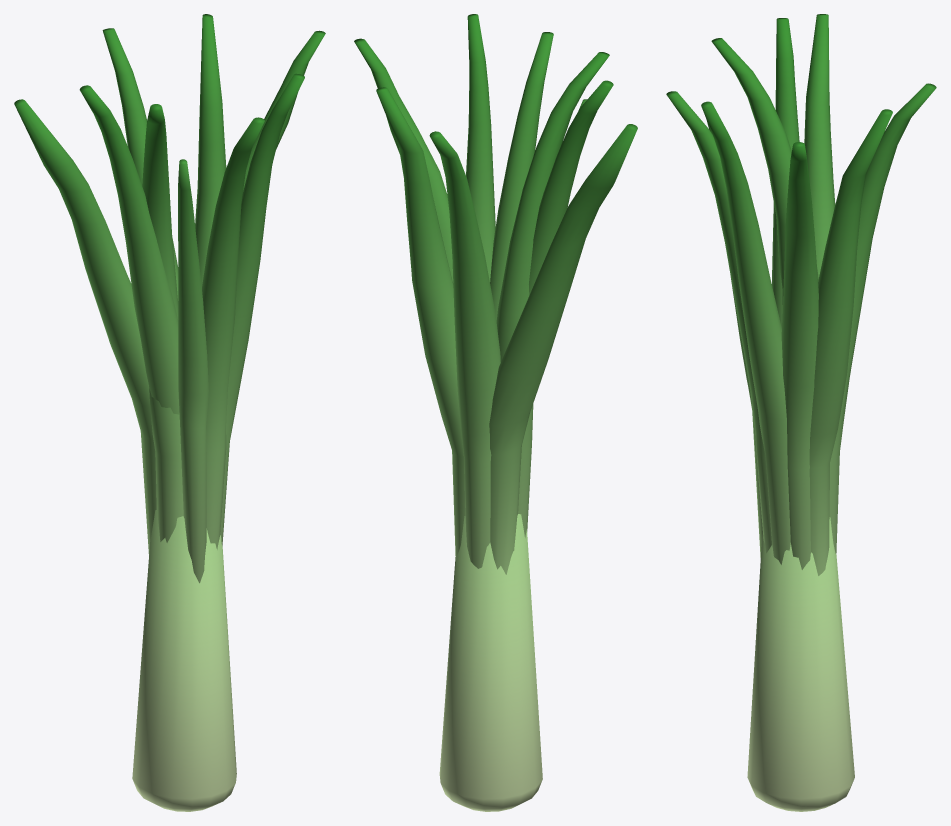
File: Leek.fbx
3 renders of one model, left to right at view 1: azimuth 30°, elevation 25°; view 2: azimuth 150°, elevation 25°; view 3: azimuth 270°, elevation 25°, orthographic. The views are drawn at different scales.
Visible parts, largest first — view 1: Leek; view 2: Leek; view 3: Leek.
Boxes of the visible parts, x1=… form: Leek: x1=14, y1=14, x2=325, y2=811; Leek: x1=354, y1=14, x2=637, y2=811; Leek: x1=666, y1=14, x2=936, y2=811.
Bounding box in the file's own units: 12.69 × 30.39 × 10.18.
